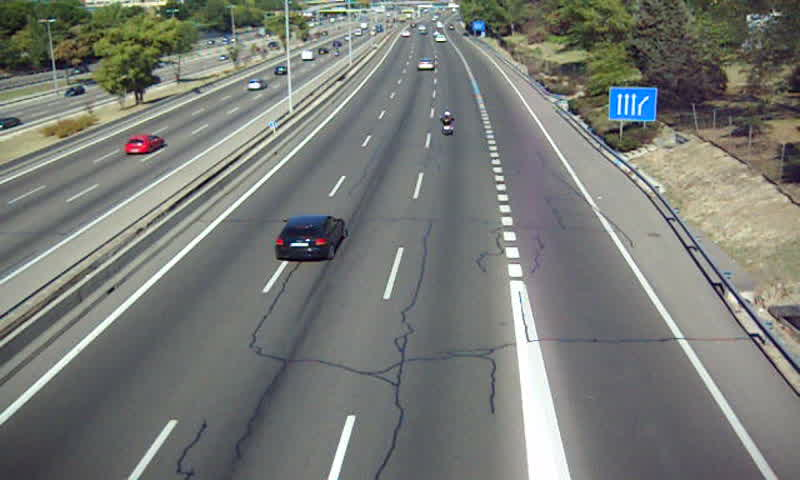car: (276, 212, 352, 261), (416, 58, 435, 72)
motorcycle: (439, 111, 456, 139)
